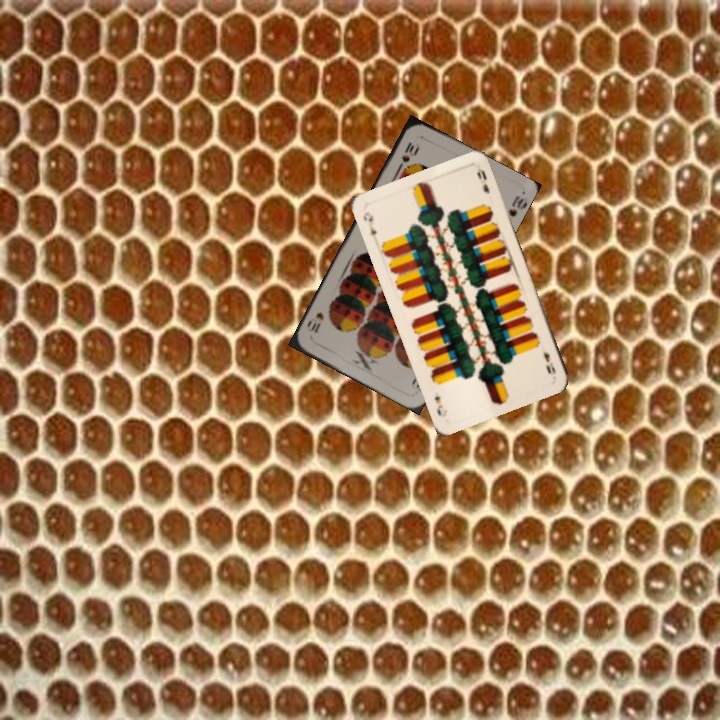E9: (359, 208, 379, 238), (539, 348, 558, 376)
S10: (394, 138, 421, 172)
